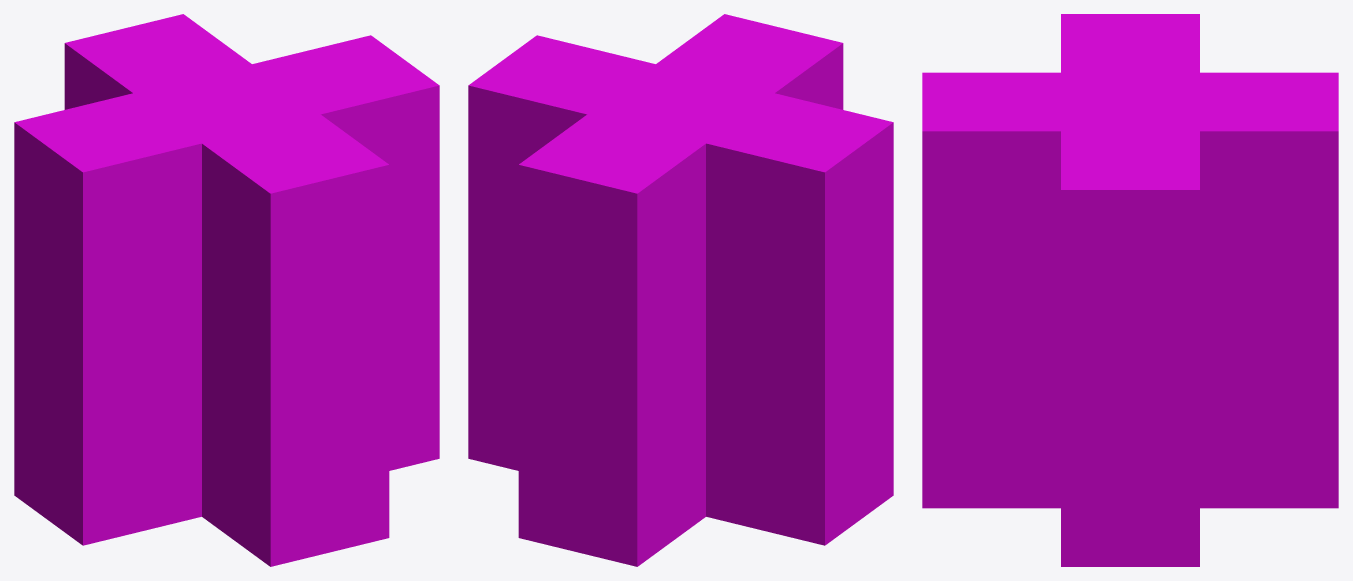
File: wall_cross_4.fbx
The picture shows the model from 3 angles, left to right: view 1: azimuth 30°, elevation 25°; view 2: azimuth 150°, elevation 25°; view 3: azimuth 270°, elevation 25°; orthographic projection.
Parts seen in each view (by area): view 1: wall_cross_4; view 2: wall_cross_4; view 3: wall_cross_4.
Part boxes in pixels (box(x1,y1,x2,y2)): wall_cross_4: box(14, 14, 439, 566); wall_cross_4: box(468, 14, 893, 566); wall_cross_4: box(922, 14, 1338, 566).
Size of the model in its own units: 3 by 3 by 3.
